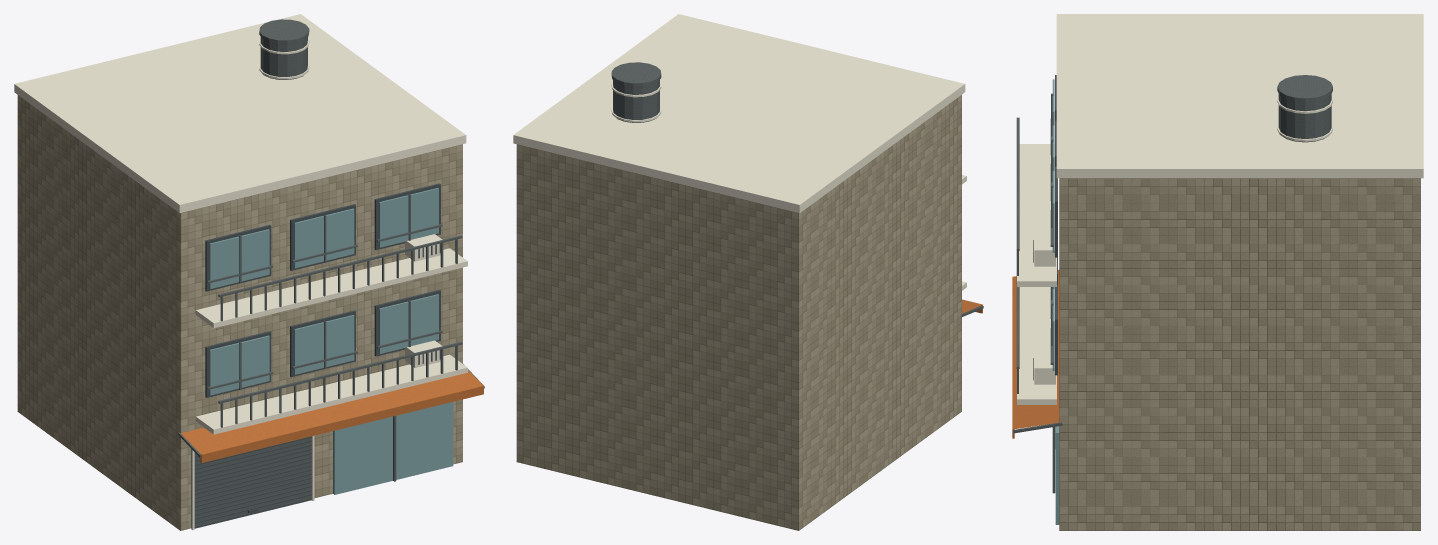
File: tw_rowhouse.glb
3 views of the same model, side by side, from view 1: azimuth 30°, elevation 25°; view 2: azimuth 150°, elevation 25°; view 3: azimuth 270°, elevation 25° (orthographic). The views are drawn at different scales.
Visible parts, largest first — view 1: TiledMasonry, PaintedCream, OpaqueStoreGlazing, GalvanizedMetal, CharcoalRecess, WovenAwning; view 2: TiledMasonry, PaintedCream, GalvanizedMetal; view 3: TiledMasonry, PaintedCream, GalvanizedMetal, WovenAwning, OpaqueStoreGlazing, CharcoalRecess.
Boxes of the visible parts, box(x1,y1,x2,y2) form: TiledMasonry: box(17, 95, 462, 530); PaintedCream: box(14, 14, 467, 530); OpaqueStoreGlazing: box(209, 188, 453, 494); GalvanizedMetal: box(178, 19, 484, 528); CharcoalRecess: box(194, 183, 440, 527); WovenAwning: box(181, 370, 483, 462); TiledMasonry: box(516, 95, 961, 530); PaintedCream: box(513, 14, 966, 290); GalvanizedMetal: box(611, 62, 983, 317); TiledMasonry: box(1059, 178, 1420, 530); PaintedCream: box(1017, 14, 1423, 448); GalvanizedMetal: box(1013, 75, 1332, 493); WovenAwning: box(1012, 270, 1059, 438); OpaqueStoreGlazing: box(1052, 79, 1059, 524); CharcoalRecess: box(1055, 75, 1057, 375).
Bounding box in the file's own units: 10.15 × 12.44 × 11.38.
6 materials, 3 textured.
